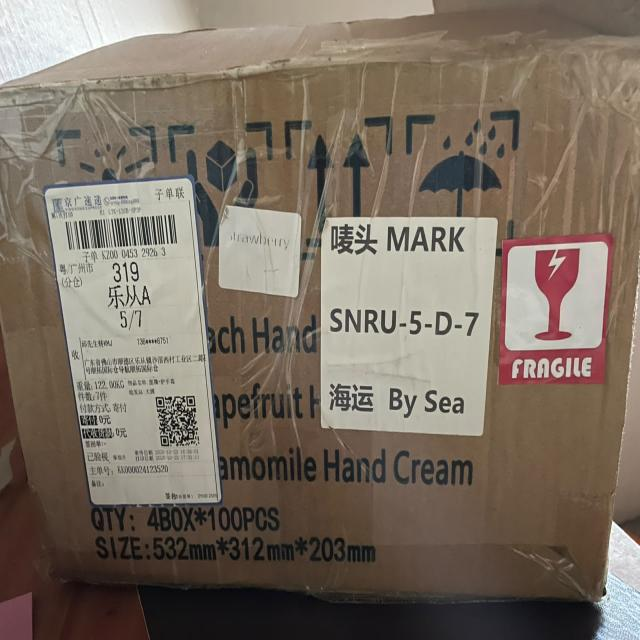carton_box: (1, 12, 640, 640)
export_mark_label: (36, 176, 226, 504), (323, 204, 494, 446)
fragile_label: (500, 230, 618, 394)
handle_with_care_label: (167, 116, 289, 253)
keep_dry_label: (403, 107, 530, 263)
protect_from_heat_label: (52, 126, 165, 186)
this_side_up_label: (288, 111, 399, 248)
